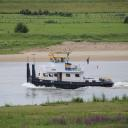tugboat: (28, 53, 117, 93)
